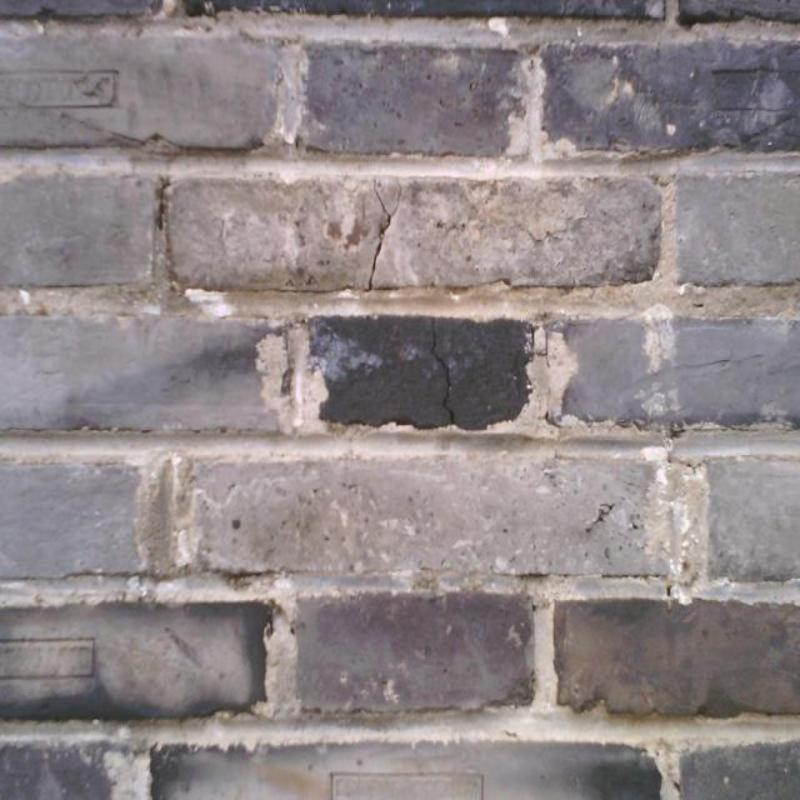pothole: (368, 179, 402, 290), (430, 318, 456, 425), (158, 181, 170, 230)
